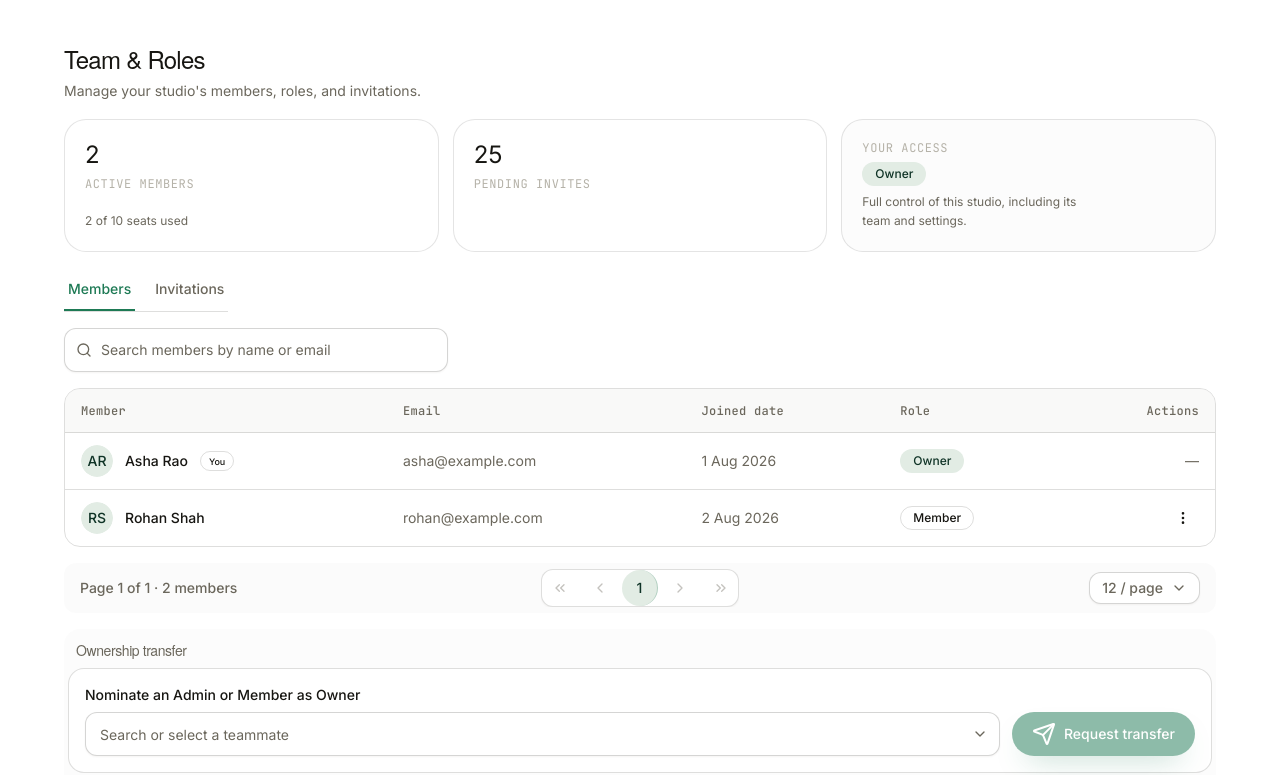
DesignerTermsRoles › paginates and searches invitations independently from members
Press the mouse on the tab "Invitations" at [190, 290], box left=151, top=268, right=228, bottom=311
(page scrolled)
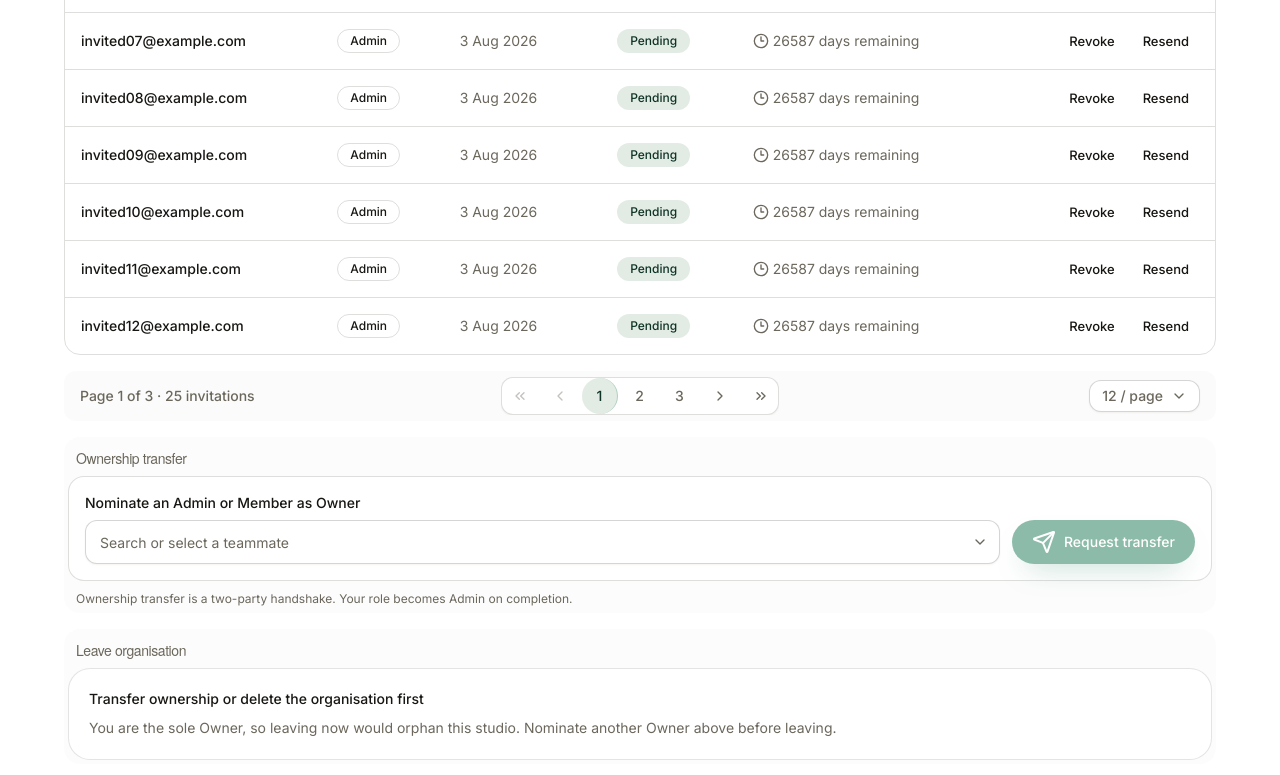
Expected: the text "invited13@example.com" is not shown
Click the button named "Next page" at [720, 396], box left=702, top=378, right=738, bottom=414
(page scrolled)
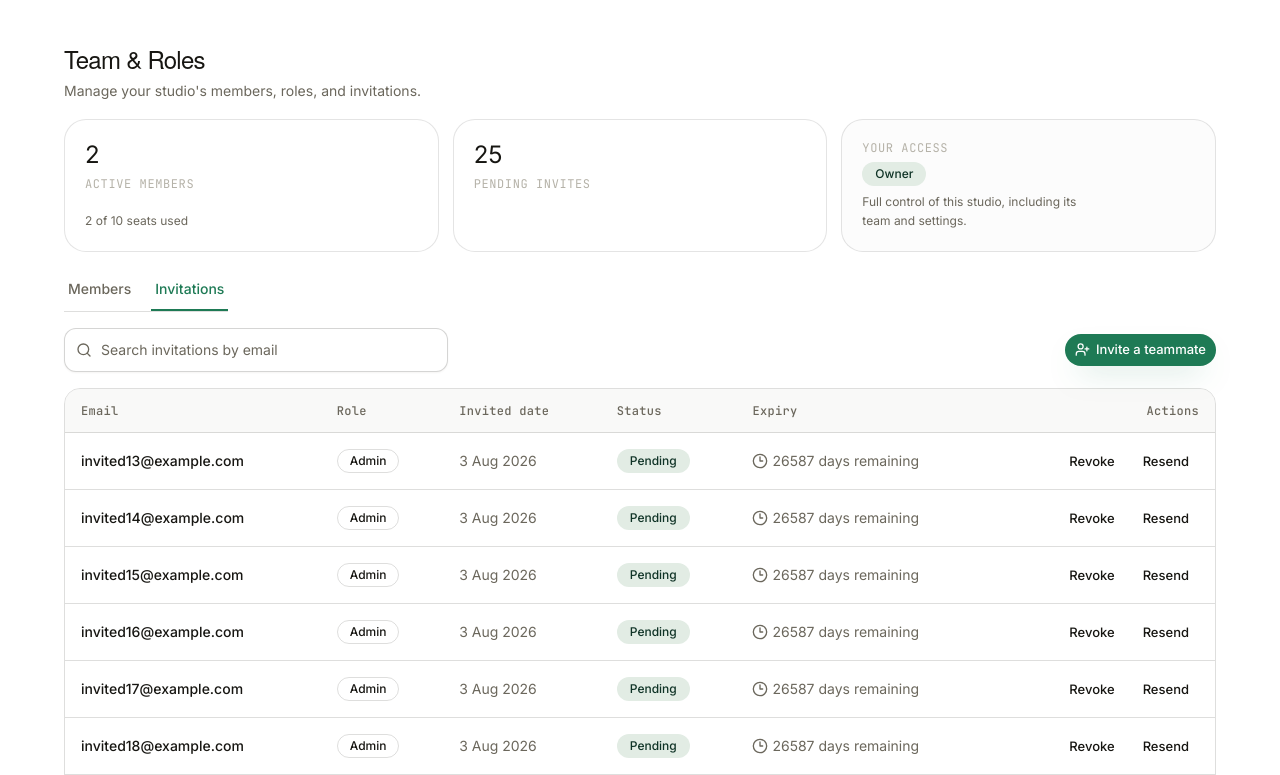
Expected: the text "invited13@example.com" is shown, left=65, top=433, right=321, bottom=490
Type "invited25@" into the search field labelled "Search invitations" at [256, 350], box left=64, top=328, right=448, bottom=372
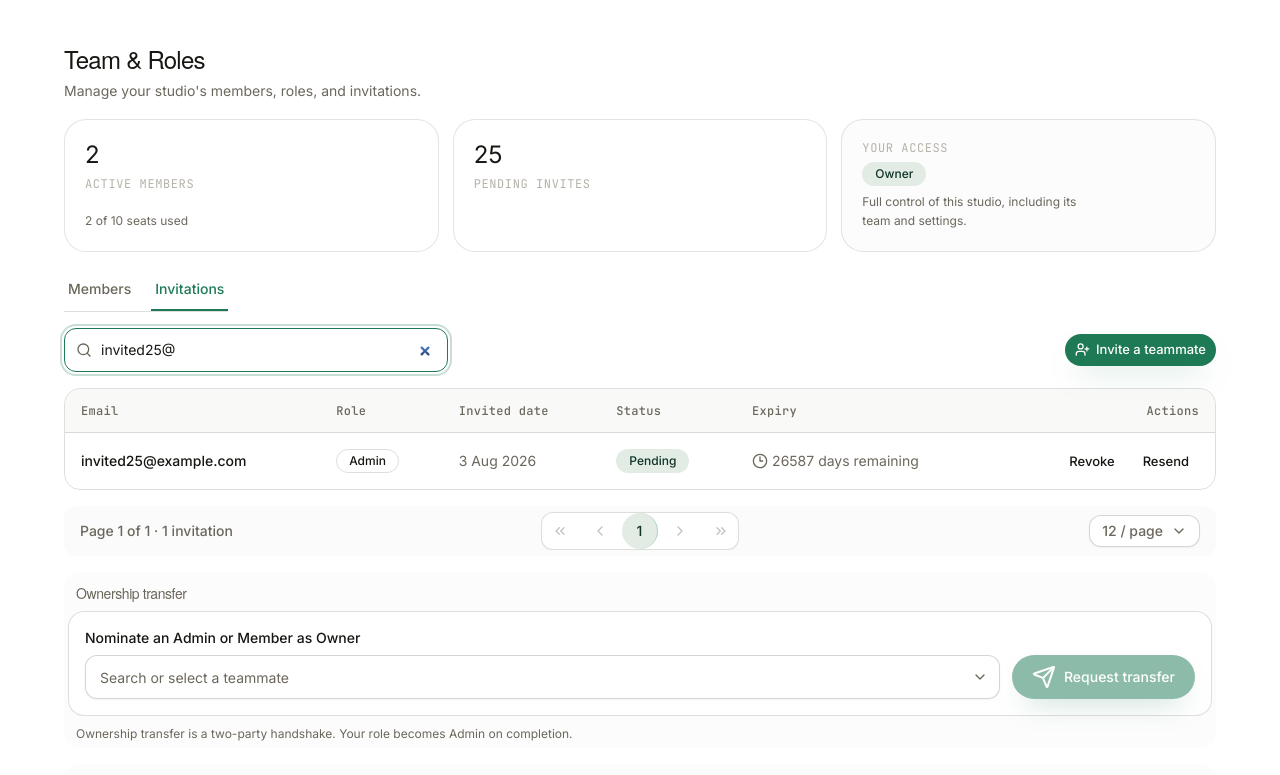
Expected: the text "invited25@example.com" is shown, left=65, top=433, right=320, bottom=489
Expected: the text "Page 1 of 1 · 1 invitation" is shown, left=80, top=521, right=233, bottom=541
Click the tab "Members" at [100, 290], box left=64, top=268, right=135, bottom=311
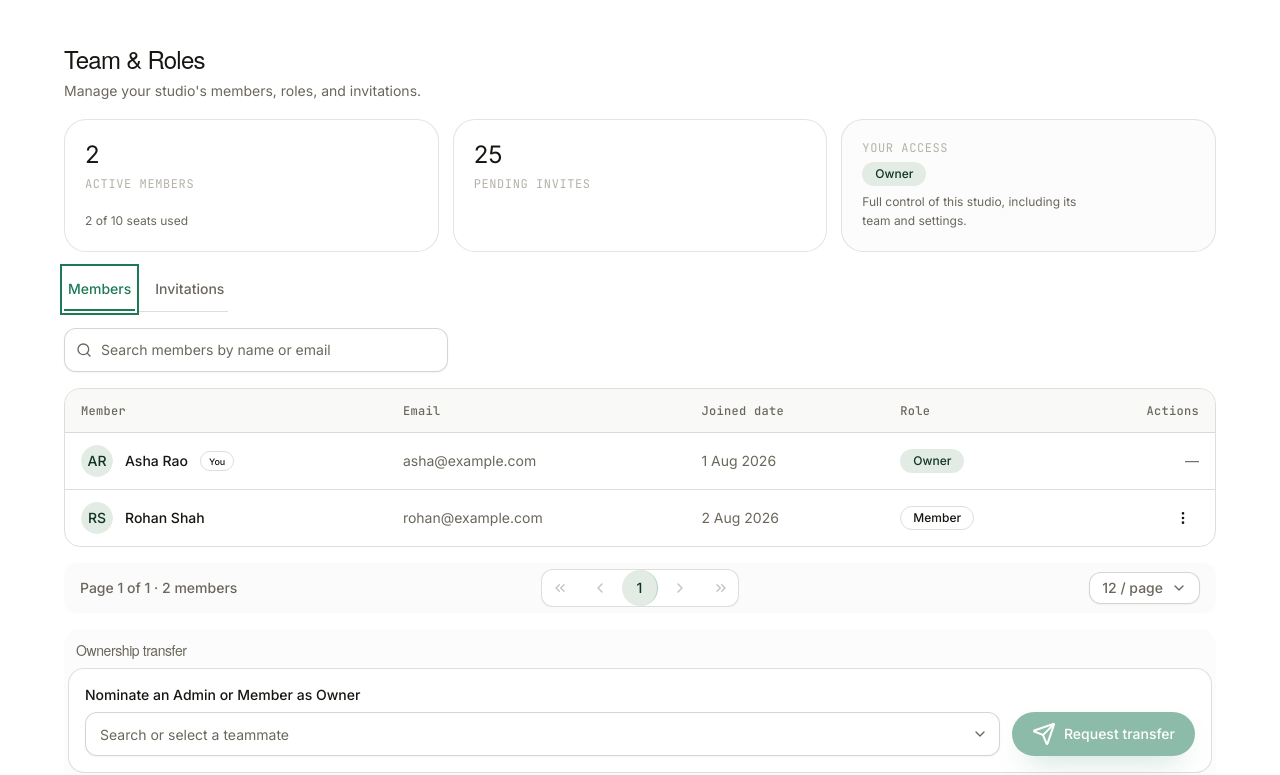
Expected: the search field labelled "Search members" is empty, left=64, top=328, right=448, bottom=372
Expected: the text "Page 1 of 1 · 2 members" is shown, left=80, top=578, right=237, bottom=598
